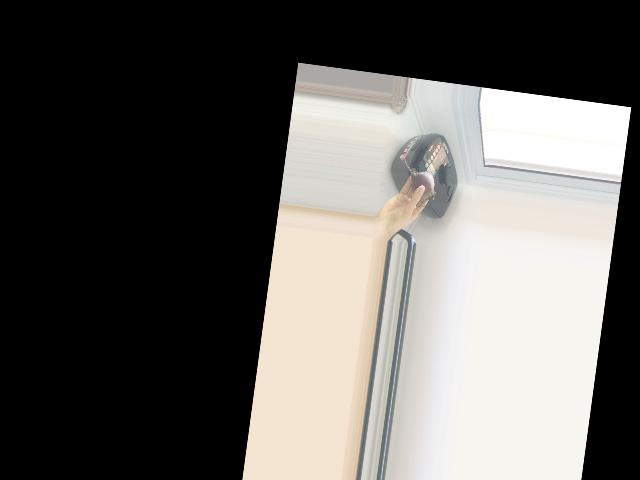beet: (397, 158, 439, 207)
